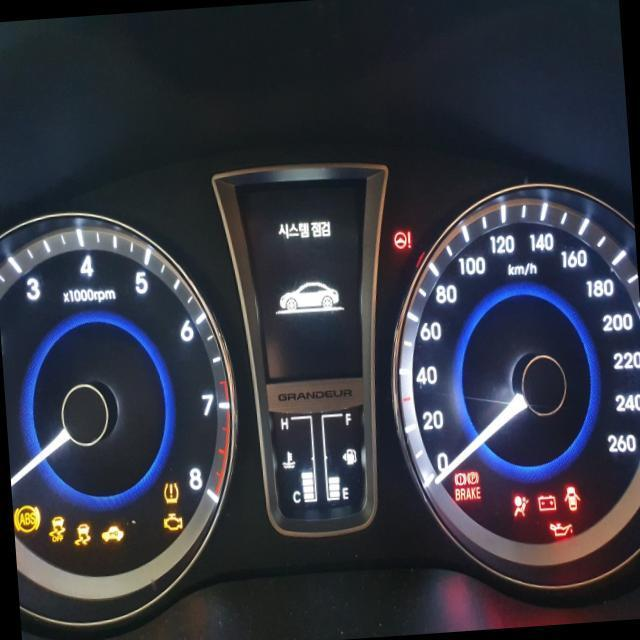Doors: (562, 484, 580, 511)
